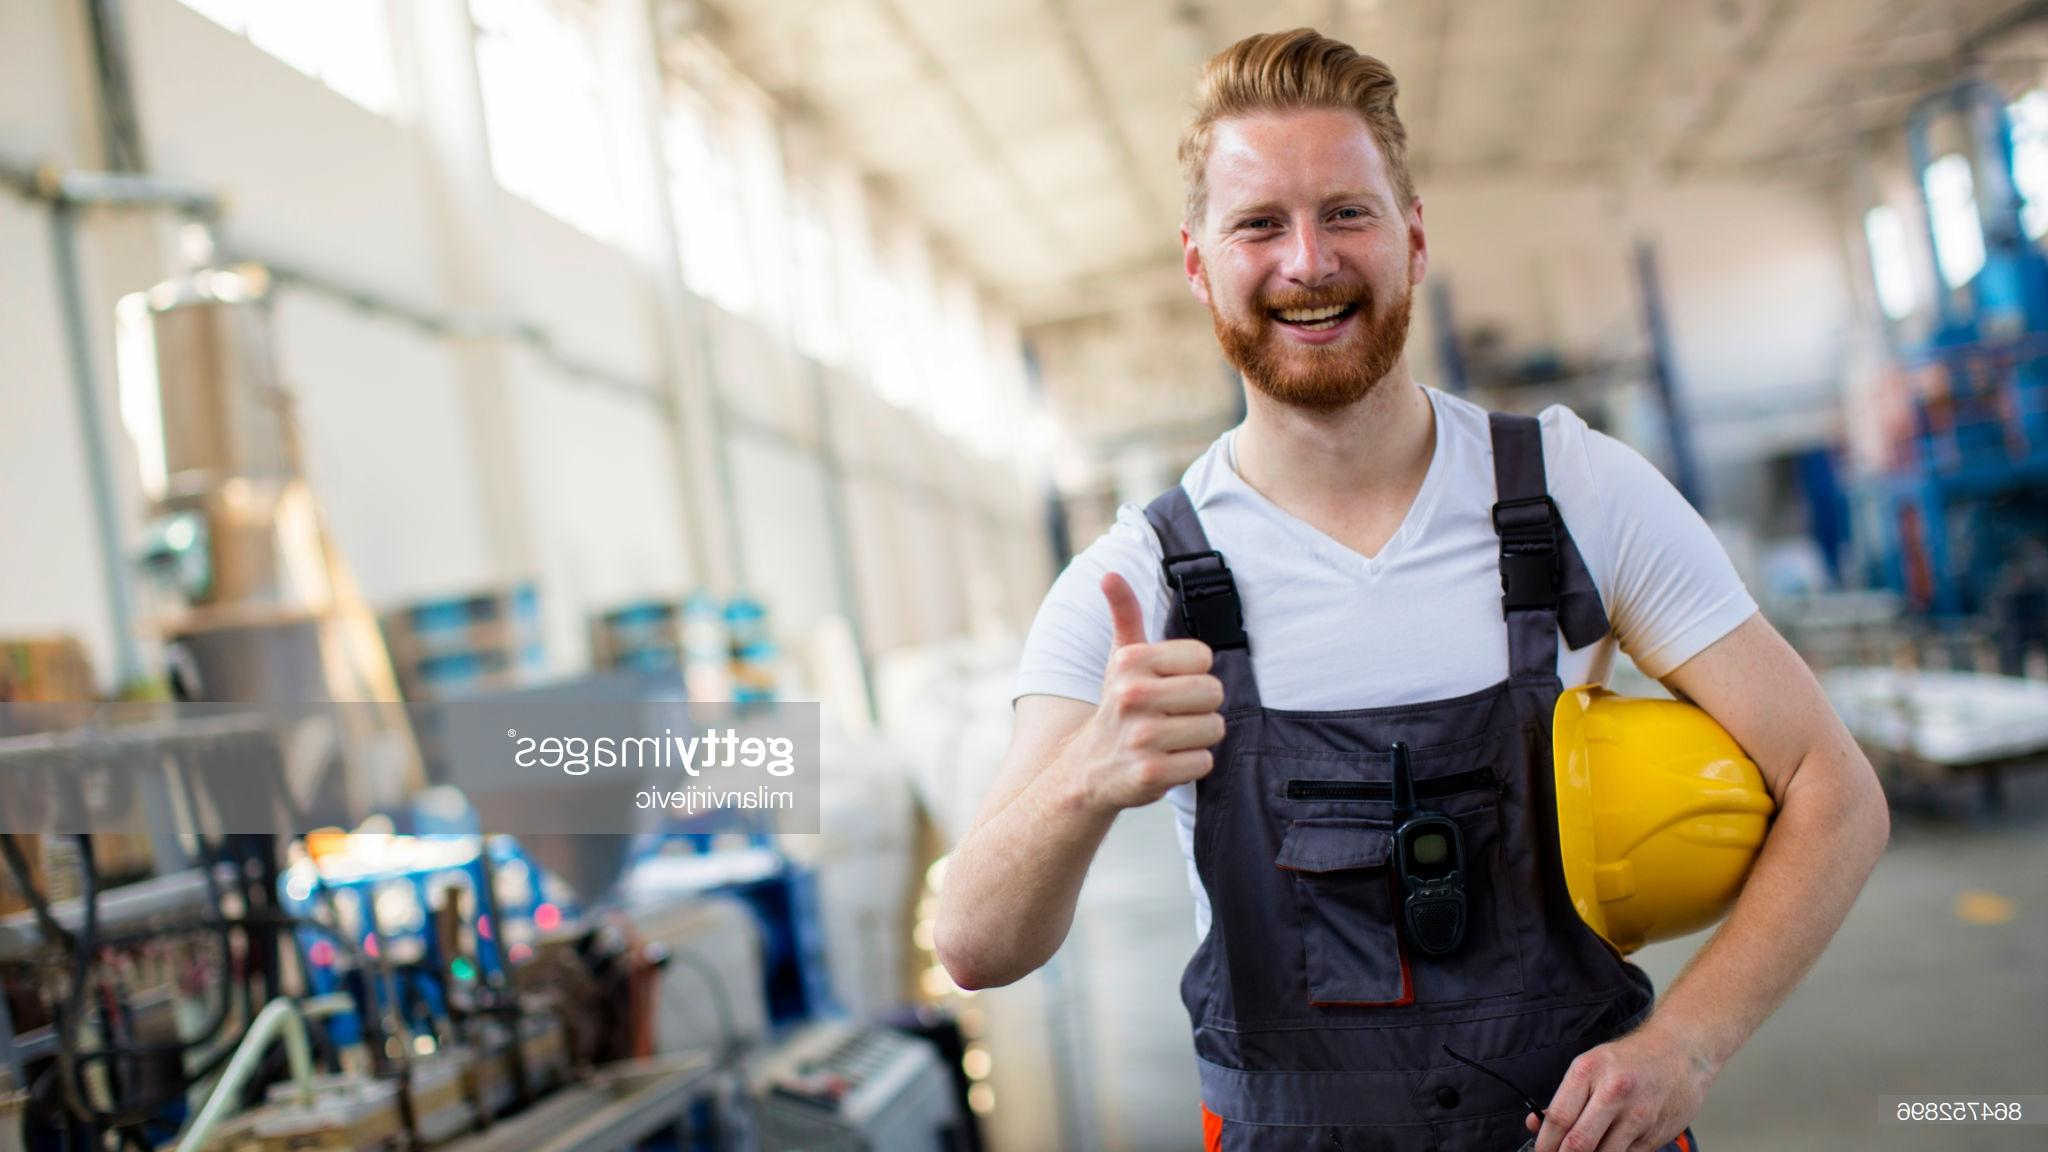thumbsup: (1097, 572, 1227, 791)
